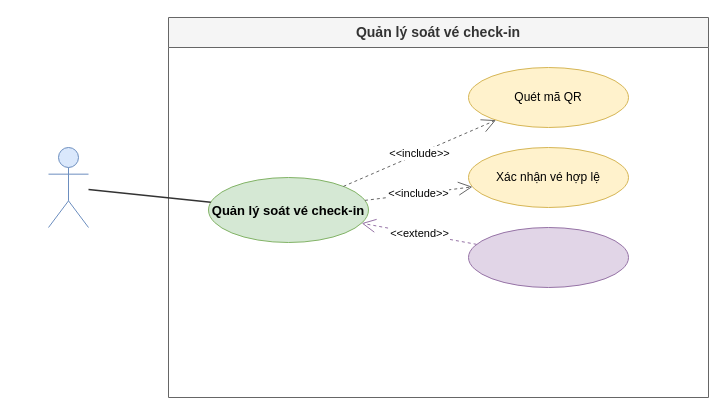
Some shapes in this 726 by 415 pixel diagram are drawn without their labels. Here are the shapes that lost their labels. From the top down, the centre of each, then its label:
At (x=68, y=187): "Nhân viên soát vé".
At (x=548, y=257): "Nhập mã vé thủ công".
